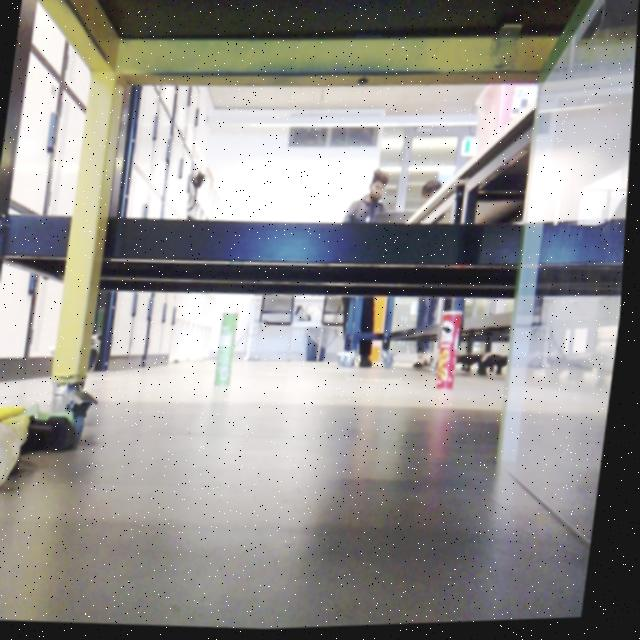greenpringles: (202, 297, 259, 401)
redpringles: (424, 310, 470, 404)
